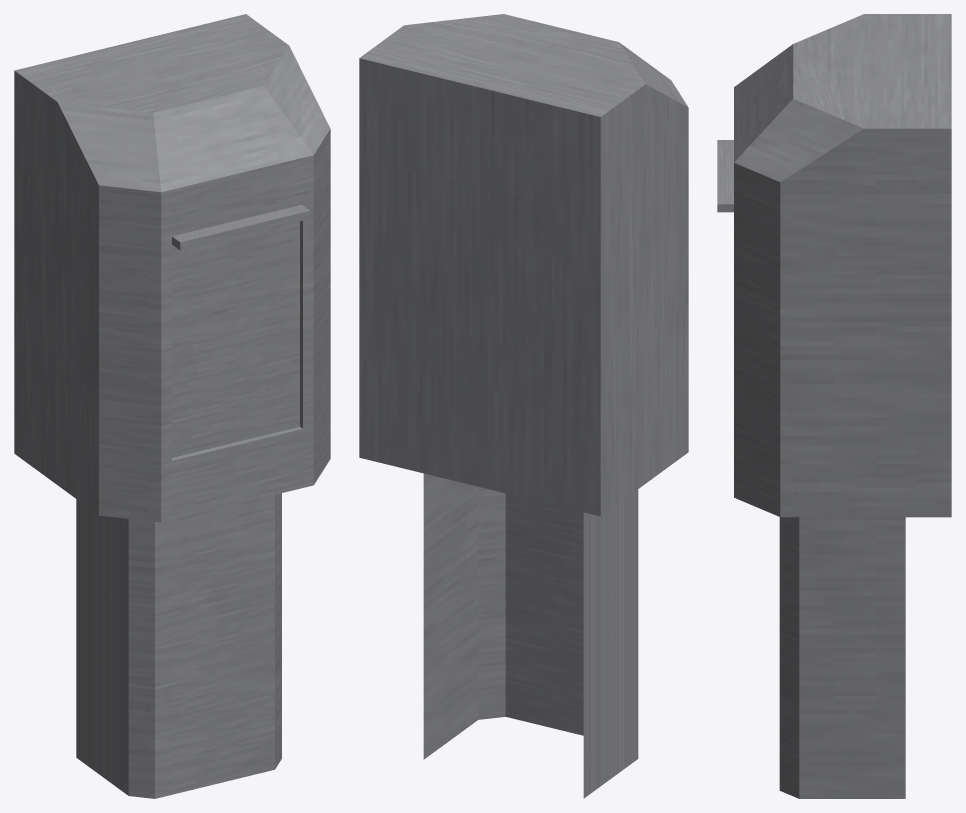
The model's file is mailbox.glb.
3 renders of one model, left to right at view 1: azimuth 30°, elevation 25°; view 2: azimuth 150°, elevation 25°; view 3: azimuth 270°, elevation 25°, orthographic. The views are drawn at different scales.
Visible parts, largest first — view 1: Cube.042; view 2: Cube.042; view 3: Cube.042.
Part boxes in pixels (x1,y1,x2,y2): Cube.042: (14,14,330,798); Cube.042: (359,14,688,798); Cube.042: (717,14,951,798).
Size of the model in its own units: 0.5858 by 1.64 by 0.5058.
Materials: 1 (1 with a texture image).
